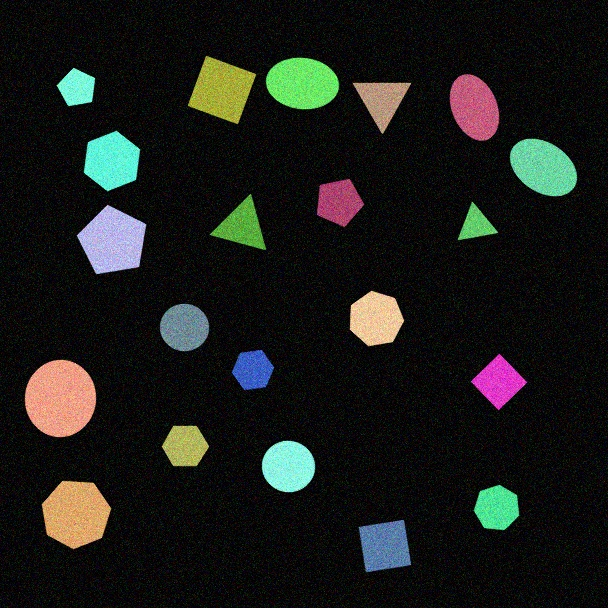Circulo: (24, 359, 97, 438), (261, 440, 316, 493), (159, 303, 210, 352)
Elipse: (509, 138, 578, 197), (265, 57, 340, 110), (449, 73, 500, 142)
Heptagono: (41, 480, 112, 550), (349, 290, 405, 347), (473, 484, 520, 531)
Hexagono: (83, 130, 141, 192), (161, 425, 210, 467), (231, 349, 275, 391)
Pentagono: (76, 204, 147, 275), (316, 178, 365, 228), (56, 67, 96, 107)
Quadrado: (187, 55, 257, 125), (470, 353, 528, 411), (358, 519, 412, 573)
Triangulo: (209, 194, 267, 251), (352, 82, 412, 135), (457, 202, 499, 241)
